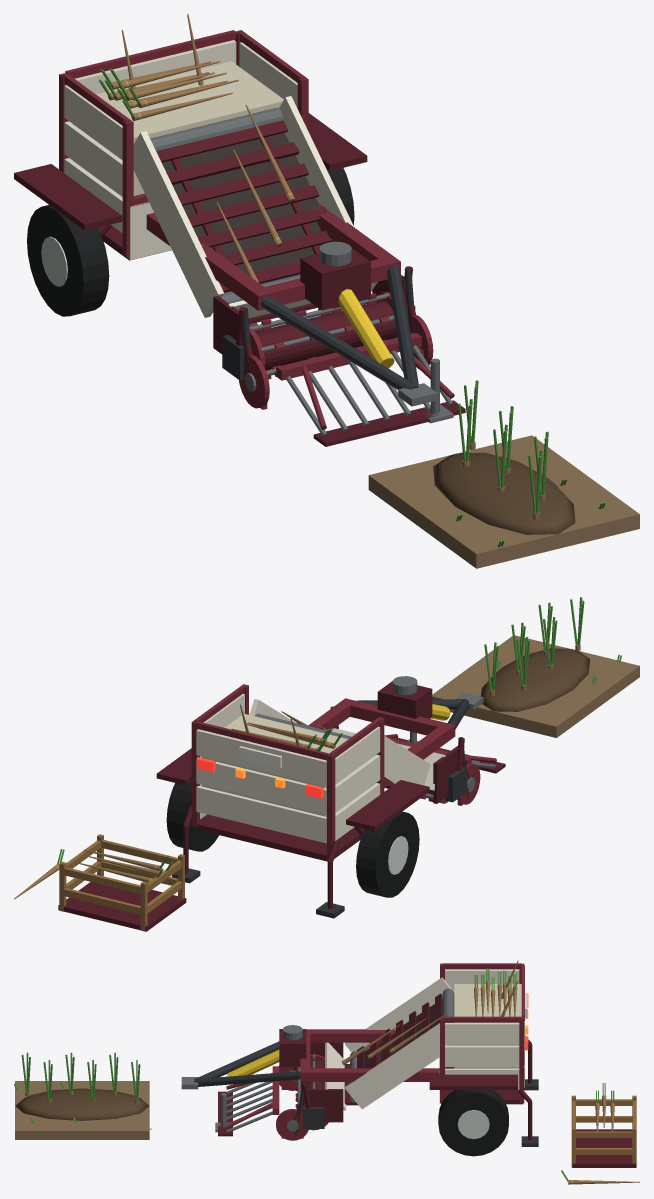
The model's file is gobo_harvester.glb.
3 renders of one model, top to bottom at view 1: azimuth 30°, elevation 25°; view 2: azimuth 150°, elevation 25°; view 3: azimuth 270°, elevation 25°, orthographic. The views are drawn at different scales.
Parts seen in each view (by area): view 1: GoboBody, GoboProps, GoboPickup; view 2: GoboBody, GoboProps; view 3: GoboBody, GoboProps, GoboPickup.
Part boxes in pixels (x1,y1,x2,y2): GoboBody: [14, 14, 465, 446]; GoboProps: [343, 167, 639, 568]; GoboPickup: [249, 292, 397, 379]; GoboBody: [156, 676, 505, 918]; GoboProps: [14, 597, 639, 931]; GoboBody: [181, 960, 538, 1156]; GoboProps: [14, 1052, 639, 1184]; GoboPickup: [295, 1054, 328, 1130].
Bounding box in the file's own units: 3.19 × 1.9 × 7.44.
